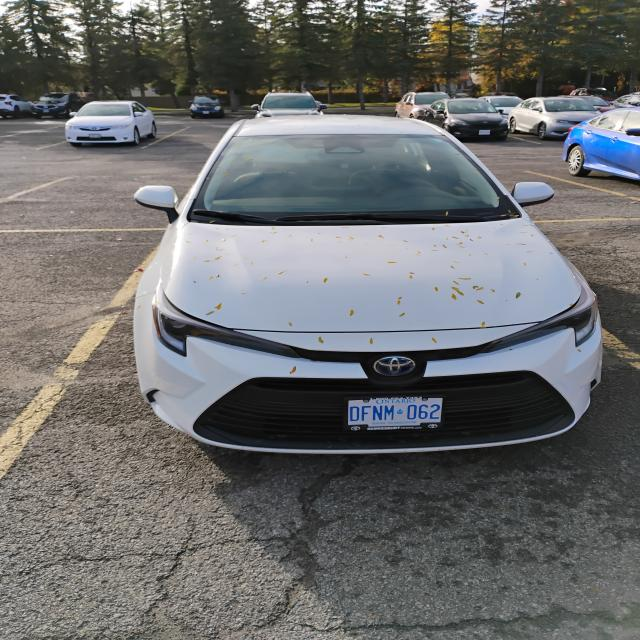plaque: (347, 397, 442, 431), (479, 130, 490, 135), (89, 134, 101, 138), (202, 111, 210, 114)
